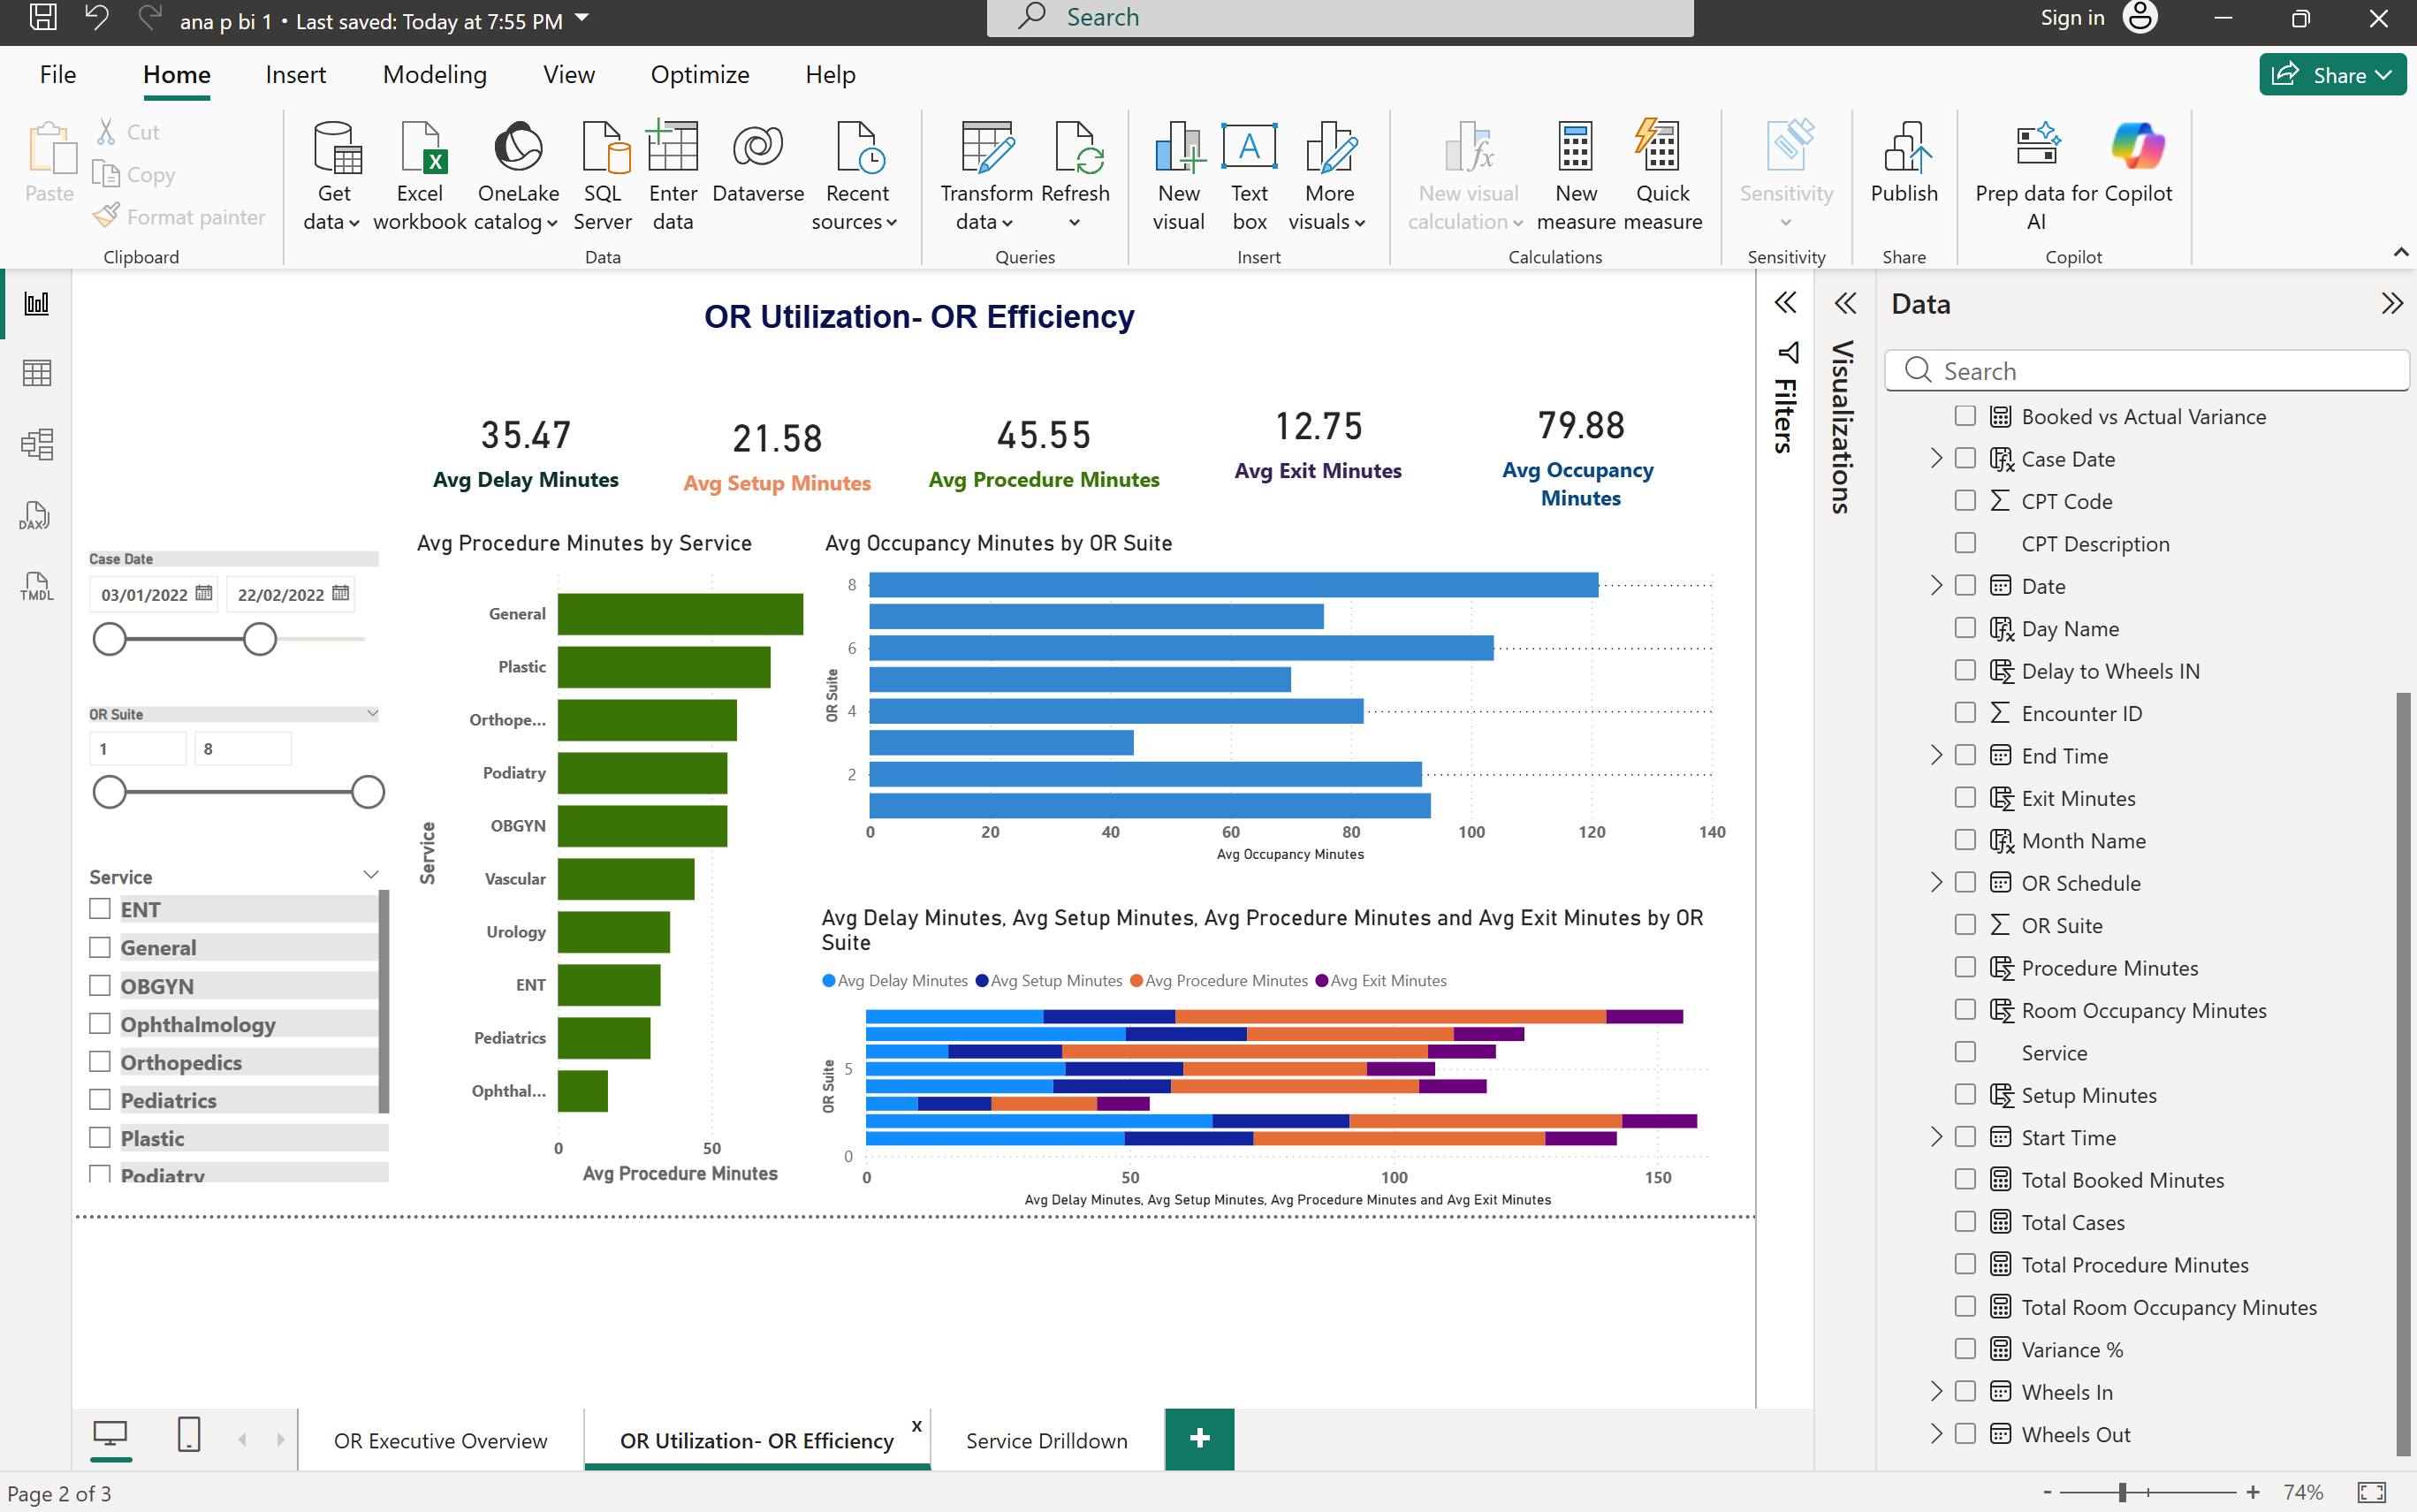

This screenshot's page, from the dashboard's own definition file:
{"tool":"powerbi","page":{"name":"OR Utilization- OR Efficiency","canvas":[1280,720],"ordinal":1},"visuals":[{"type":"textbox","box":[9.6,0,1270.4,87.9],"z":0},{"type":"card","fields":{"Values":["2022_Q1.Avg Delay Minutes"]},"box":[257.3,69.9,176.3,130.2],"z":1},{"type":"card","fields":{"Values":["2022_Q1.Avg Setup Minutes"]},"box":[433.5,74.6,206.5,125.5],"z":2},{"type":"card","fields":{"Values":["2022_Q1.Avg Procedure Minutes"]},"box":[640,73.1,198.5,125.5],"z":3},{"type":"card","fields":{"Values":["2022_Q1.Avg Exit Minutes"]},"box":[838.5,57.2,217.6,141.3],"z":4},{"type":"card","fields":{"Values":["2022_Q1.Avg Occupancy Minutes"]},"box":[1056.1,47.6,184.2,162],"z":5},{"type":"clusteredBarChart","fields":{"Category":["2022_Q1.OR Suite"],"Y":["2022_Q1.Avg Occupancy Minutes"]},"box":[566.9,198.5,695.6,257.3],"z":6},{"type":"clusteredBarChart","fields":{"Category":["2022_Q1.Service"],"Y":["2022_Q1.Avg Procedure Minutes"]},"box":[257.3,198.5,311.3,501.8],"z":7},{"type":"barChart","fields":{"Category":["2022_Q1.OR Suite"],"Y":["2022_Q1.Avg Delay Minutes","2022_Q1.Avg Setup Minutes","2022_Q1.Avg Procedure Minutes","2022_Q1.Avg Exit Minutes"]},"box":[565.4,484.4,697.2,235],"z":8},{"type":"slicer","fields":{"Values":["2022_Q1.Case Date"]},"box":[0,209.6,246.2,117.5],"z":9},{"type":"slicer","fields":{"Values":["2022_Q1.OR Suite"]},"box":[0,328.7,246.2,120.7],"z":10},{"type":"slicer","fields":{"Values":["2022_Q1.Service"]},"box":[0,449.4,246.2,250.9],"z":11}]}

Visuals, with their boxes on the page's 1280x720 design canvas (x1, y1, x2, y2). These are canvas units, not pixel positions in the 2417x1512 screenshot, which may show the page scaled, cropped or inside an application window:
textbox: (left=10, top=0, right=1280, bottom=88)
card - 2022_Q1.Avg Delay Minutes: (left=257, top=70, right=434, bottom=200)
card - 2022_Q1.Avg Setup Minutes: (left=434, top=75, right=640, bottom=200)
card - 2022_Q1.Avg Procedure Minutes: (left=640, top=73, right=838, bottom=199)
card - 2022_Q1.Avg Exit Minutes: (left=838, top=57, right=1056, bottom=198)
card - 2022_Q1.Avg Occupancy Minutes: (left=1056, top=48, right=1240, bottom=210)
clusteredBarChart - 2022_Q1.OR Suite x 2022_Q1.Avg Occupancy Minutes: (left=567, top=198, right=1262, bottom=456)
clusteredBarChart - 2022_Q1.Service x 2022_Q1.Avg Procedure Minutes: (left=257, top=198, right=569, bottom=700)
barChart - 2022_Q1.OR Suite x 2022_Q1.Avg Delay Minutes: (left=565, top=484, right=1263, bottom=719)
slicer - 2022_Q1.Case Date: (left=0, top=210, right=246, bottom=327)
slicer - 2022_Q1.OR Suite: (left=0, top=329, right=246, bottom=449)
slicer - 2022_Q1.Service: (left=0, top=449, right=246, bottom=700)
